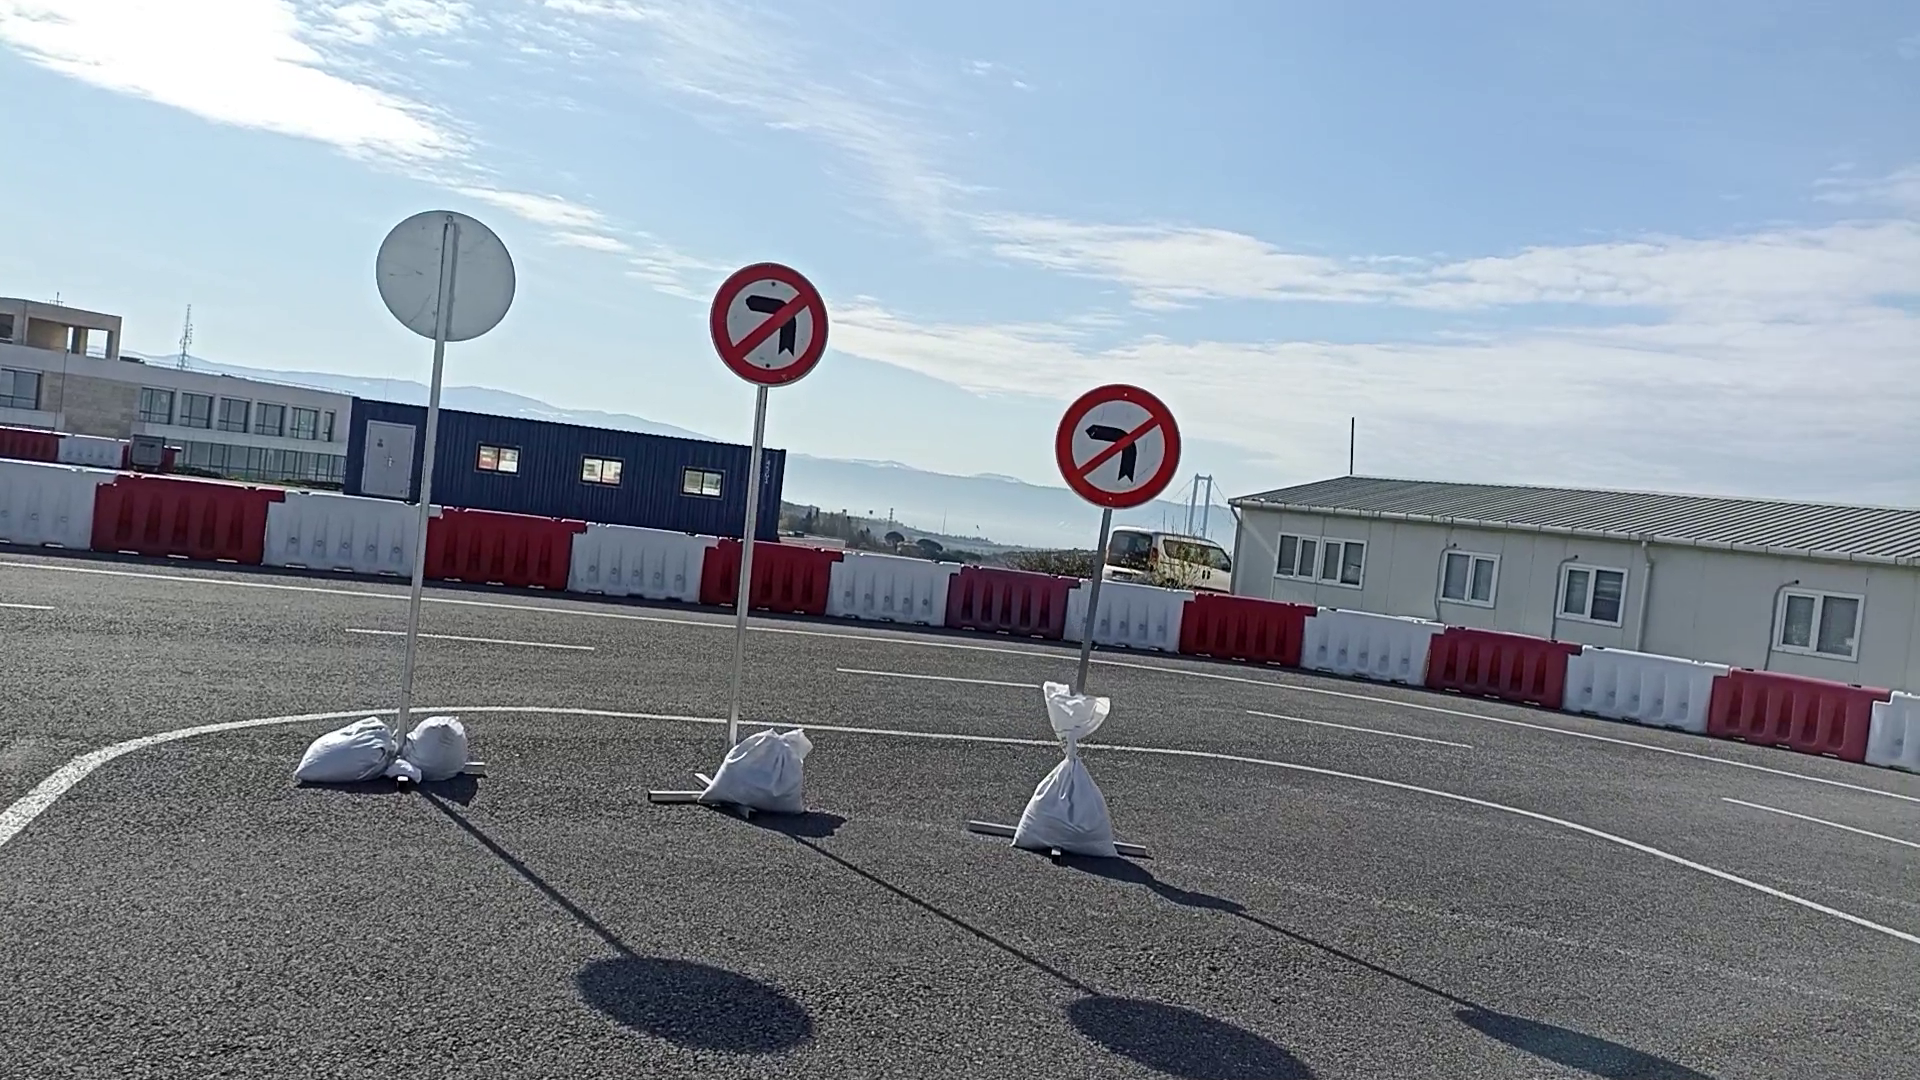noleft: (1054, 382, 1184, 510), (705, 258, 832, 388)
